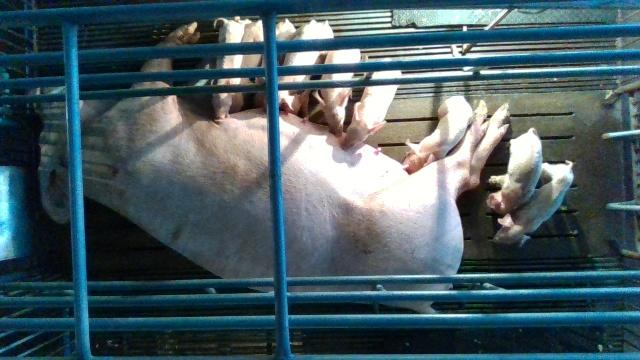piglet: (494, 161, 573, 247), (255, 19, 323, 111), (342, 59, 401, 151), (404, 96, 473, 172), (486, 127, 543, 216), (213, 17, 253, 119), (319, 49, 360, 138)
sow-sleep-lactate: (28, 22, 510, 314)
